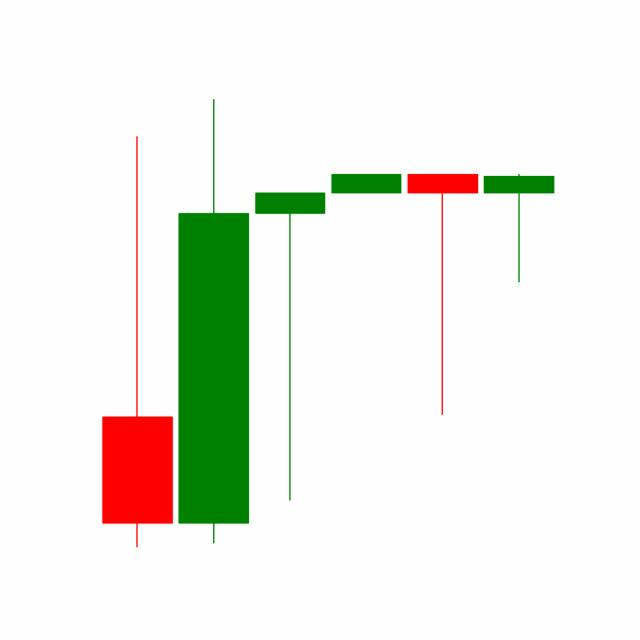Hanging Man: (403, 171, 481, 418)
